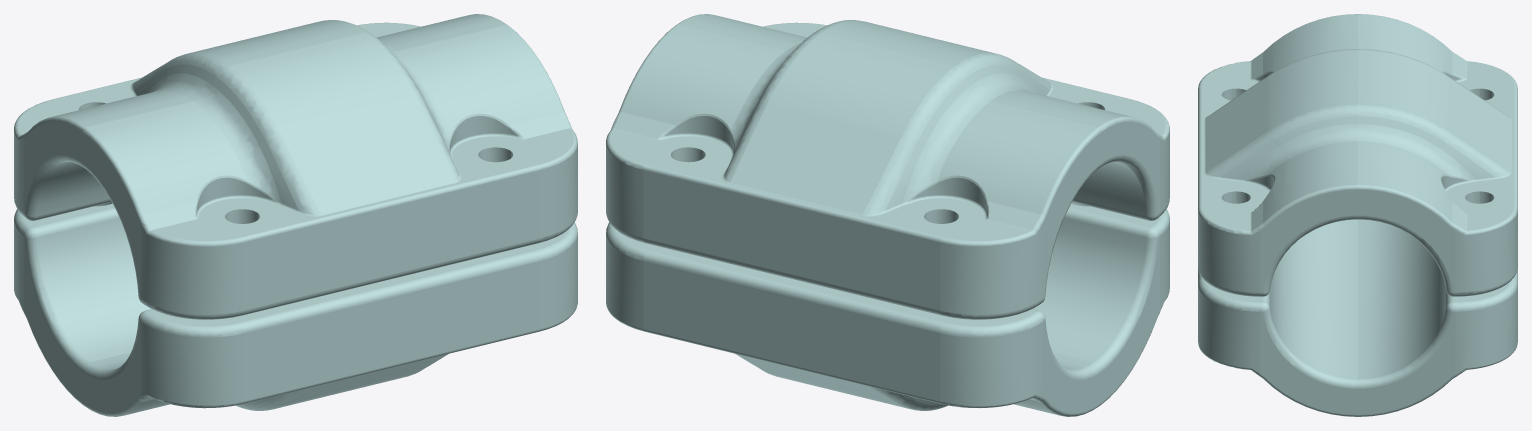
3 renders of one model, left to right at view 1: azimuth 30°, elevation 25°; view 2: azimuth 150°, elevation 25°; view 3: azimuth 270°, elevation 25°, orthographic. The views are drawn at different scales.
Size of the model in its own units: 59 by 43.8 by 46.
